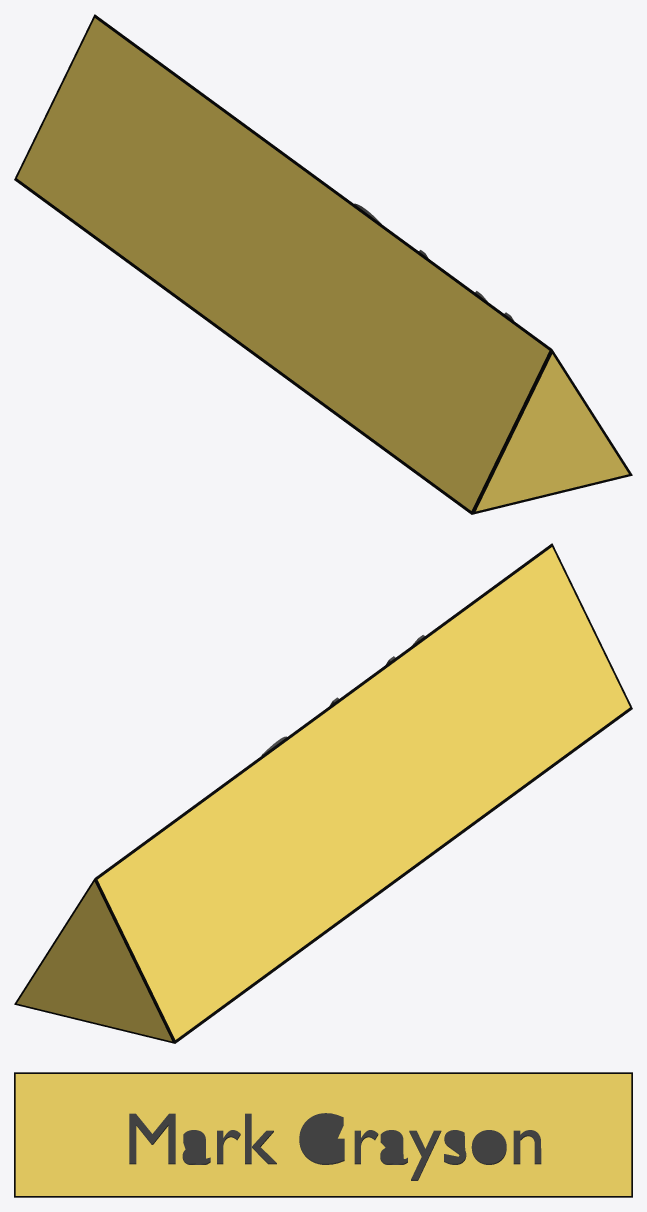
The model's file is NamePlate.fbx.
The picture shows the model from 3 angles, top to bottom: view 1: azimuth 30°, elevation 25°; view 2: azimuth 150°, elevation 25°; view 3: azimuth 270°, elevation 25°; orthographic projection. The views are drawn at different scales.
Visible parts, largest first — view 1: Cylinder; view 2: Cylinder; view 3: Cylinder, Text.
Boxes of the visible parts, x1,y1,x2,y2 form: Cylinder: [14, 14, 632, 514]; Cylinder: [14, 543, 632, 1043]; Cylinder: [14, 1072, 632, 1197]; Text: [129, 1113, 541, 1180].
Bounding box in the file's own units: 179 × 150 × 851.
